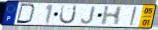1: (44, 4, 55, 25)
D: (15, 3, 38, 25)
H: (100, 6, 124, 26)
I: (128, 6, 138, 27)
J: (80, 6, 97, 25)
U: (58, 5, 79, 26)
